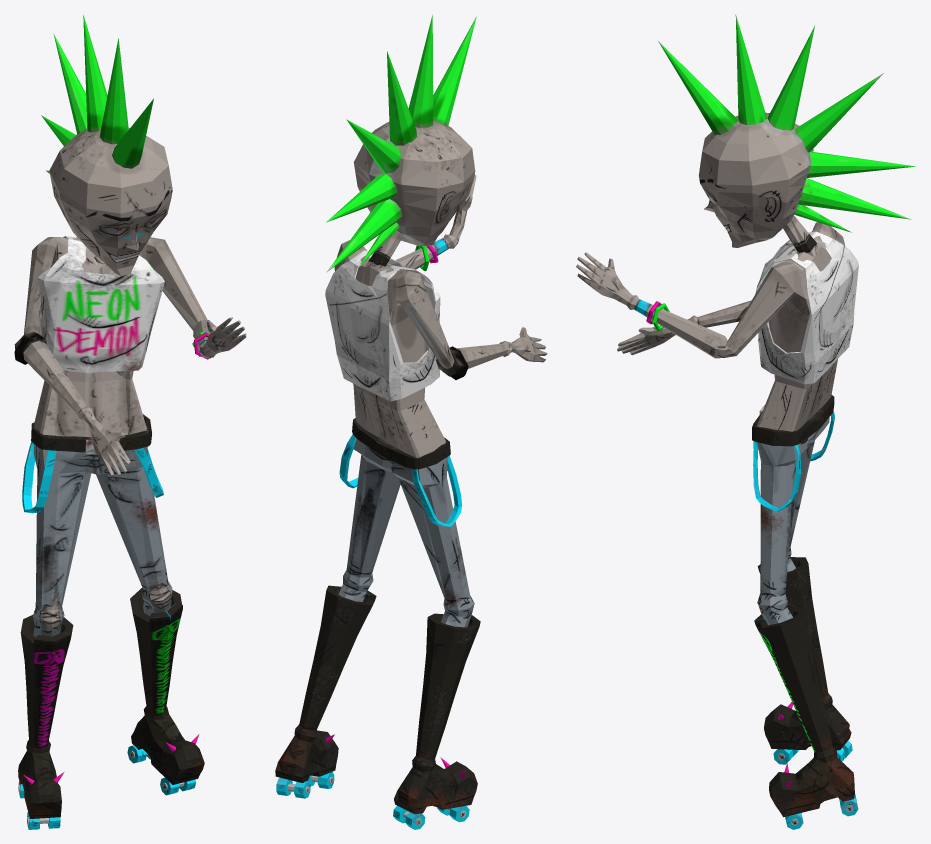
File: punkAnimation_000013.obj
The picture shows the model from 3 angles, left to right: view 1: azimuth 30°, elevation 25°; view 2: azimuth 150°, elevation 25°; view 3: azimuth 270°, elevation 25°; orthographic projection. The views are drawn at different scales.
Visible parts, largest first — view 1: Cube.004_Cube.003; view 2: Cube.004_Cube.003; view 3: Cube.004_Cube.003.
Boxes of the visible parts, x1,y1,x2,y2 form: Cube.004_Cube.003: [14, 15, 246, 829]; Cube.004_Cube.003: [275, 15, 547, 829]; Cube.004_Cube.003: [576, 14, 916, 829].
Bounding box in the file's own units: 1.77 × 7.53 × 3.03.
